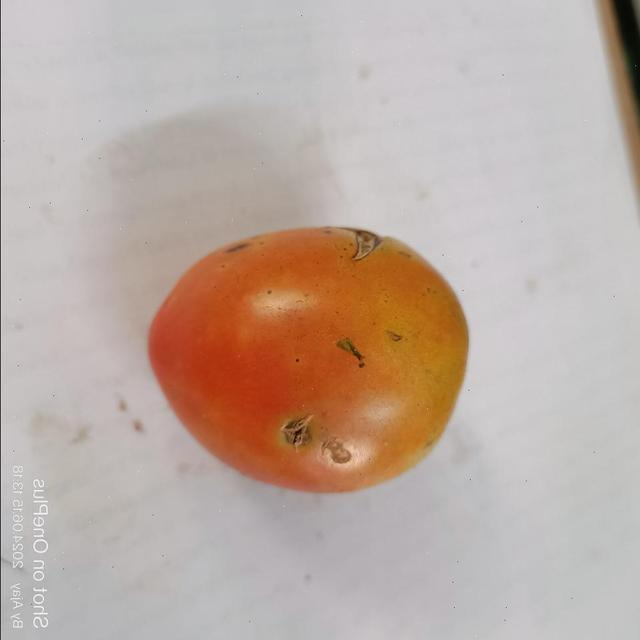Bacterial Spot Fruit: (20, 22, 246, 288)
